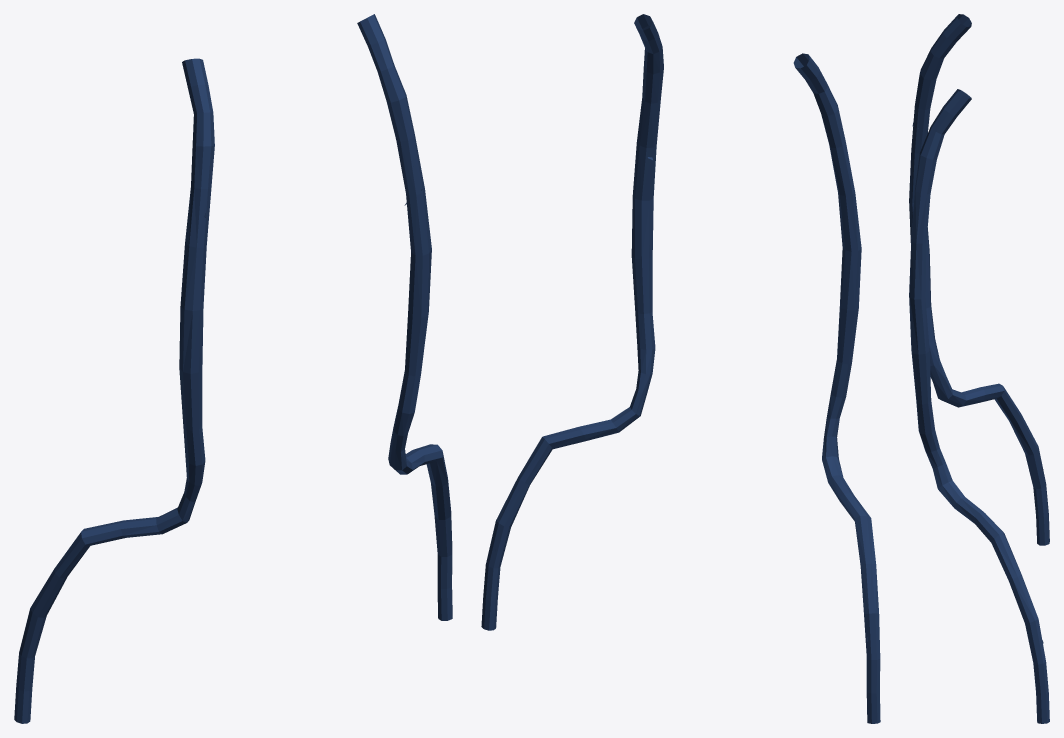
The model's file is Vena Femoral.FBX.
The picture shows the model from 3 angles, left to right: view 1: azimuth 30°, elevation 25°; view 2: azimuth 150°, elevation 25°; view 3: azimuth 270°, elevation 25°; orthographic projection. The views are drawn at different scales.
Parts seen in each view (by area): view 1: CS_Veins; view 2: CS_Veins; view 3: CS_Veins.
Boxes of the visible parts, <box> form: CS_Veins: <box>14,14,452,723</box>; CS_Veins: <box>481,14,880,723</box>; CS_Veins: <box>909,14,1049,723</box>.
Size of the model in its own units: 815 by 1194 by 263.
